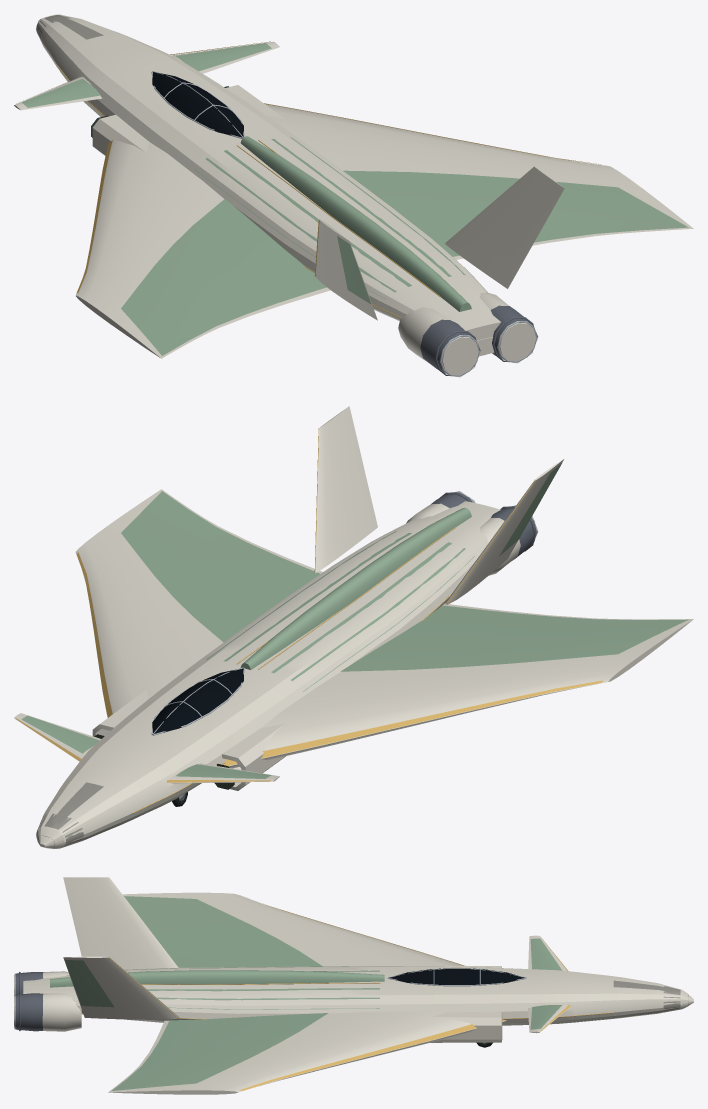
The model's file is game.glb.
3 renders of one model, top to bottom at view 1: azimuth 30°, elevation 25°; view 2: azimuth 150°, elevation 25°; view 3: azimuth 270°, elevation 25°, orthographic. The views are drawn at different scales.
Visible parts, largest first — view 1: game_body_Paint_Base, game_body_Paint_Secondary, game_body_Canopy_Glass_Dark, game_body_Metal_Heat, game_body_Paint_Accent, game_body_Metal_Detail, game_body_Paint_Radome; view 2: game_body_Paint_Base, game_body_Paint_Secondary, game_body_Paint_Accent, game_body_Canopy_Glass_Dark, game_body_Paint_Radome, game_body_Metal_Heat; view 3: game_body_Paint_Base, game_body_Paint_Secondary, game_body_Paint_Accent, game_body_Canopy_Glass_Dark, game_body_Metal_Heat, game_body_Paint_Radome, game_body_Metal_Detail.
Part boxes in pixels (x1,y1,x2,y2): game_body_Paint_Base: (14, 14, 693, 375); game_body_Paint_Secondary: (21, 43, 688, 355); game_body_Canopy_Glass_Dark: (152, 72, 243, 137); game_body_Metal_Heat: (420, 305, 533, 375); game_body_Paint_Accent: (16, 41, 601, 318); game_body_Metal_Detail: (151, 71, 537, 377); game_body_Paint_Radome: (36, 15, 103, 40); game_body_Paint_Base: (14, 406, 693, 848); game_body_Paint_Secondary: (21, 463, 688, 818); game_body_Paint_Accent: (15, 428, 603, 813); game_body_Canopy_Glass_Dark: (152, 668, 243, 733); game_body_Paint_Radome: (37, 782, 103, 848); game_body_Metal_Heat: (431, 492, 536, 560); game_body_Paint_Base: (14, 877, 693, 1094); game_body_Paint_Secondary: (50, 896, 613, 1090); game_body_Paint_Accent: (80, 901, 613, 1090); game_body_Canopy_Glass_Dark: (389, 968, 524, 984); game_body_Metal_Heat: (15, 972, 43, 1031); game_body_Paint_Radome: (613, 980, 688, 1012); game_body_Metal_Detail: (14, 968, 526, 1029).
Size of the model in its own units: 15.2 by 4.86 by 22.1.
